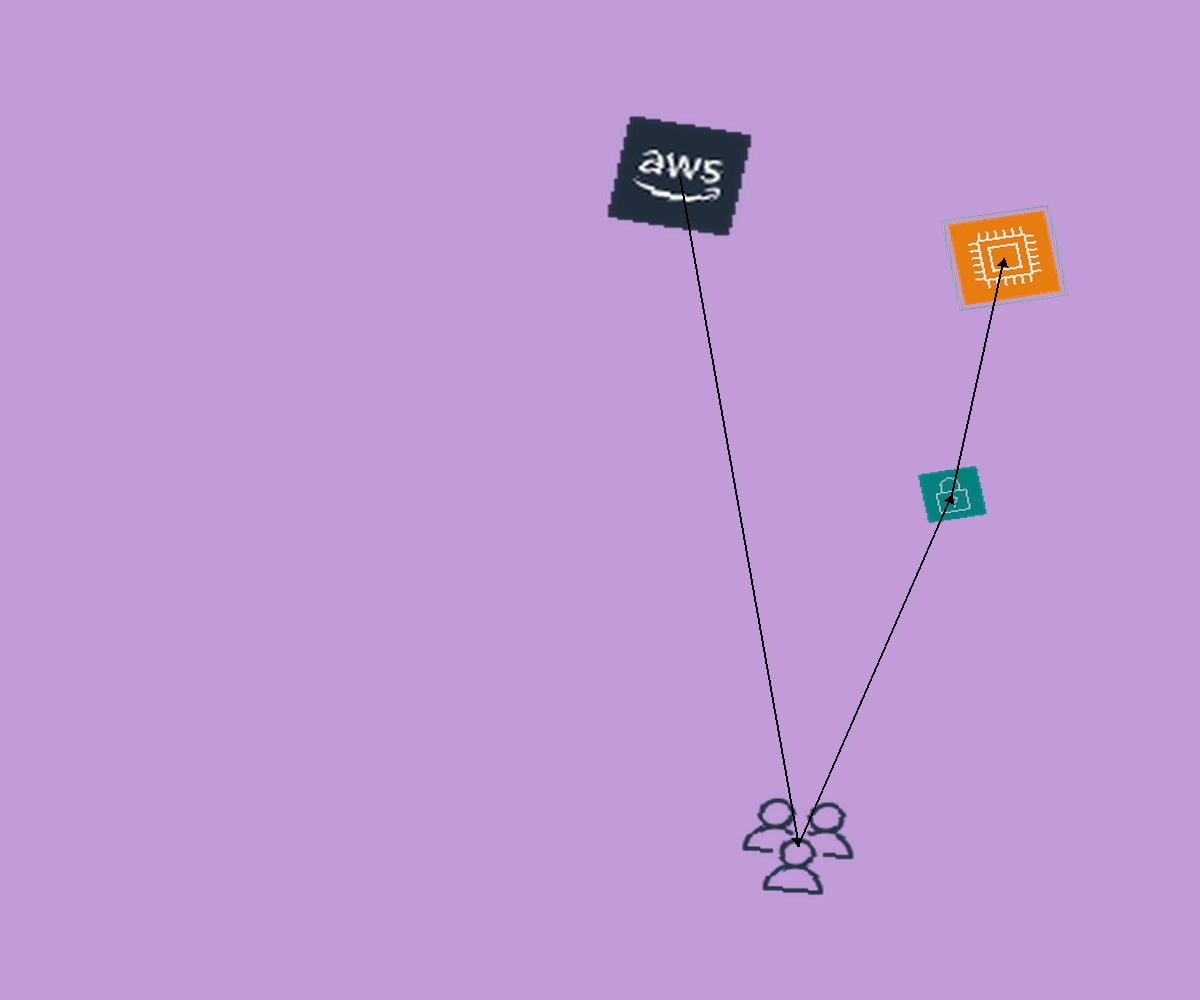AWS-Category_Compute: (940, 204, 1069, 312)
AWS-Cloud-logo: (605, 114, 754, 238)
AWS-Private-subnet: (917, 465, 988, 524)
AWS-Res_Users: (730, 790, 866, 903)
